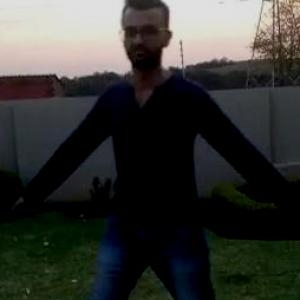land: (31, 11, 290, 298)
